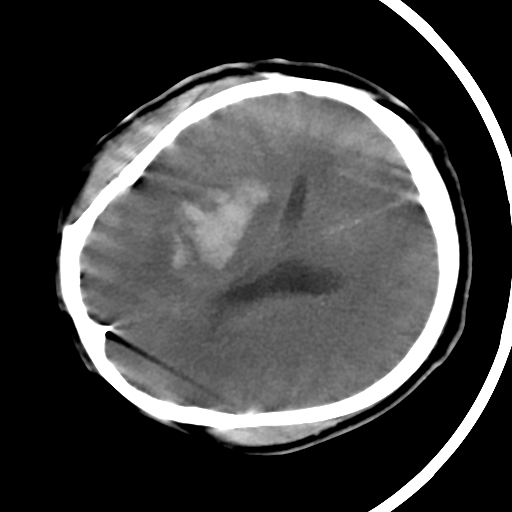a: (158, 164, 284, 286)
